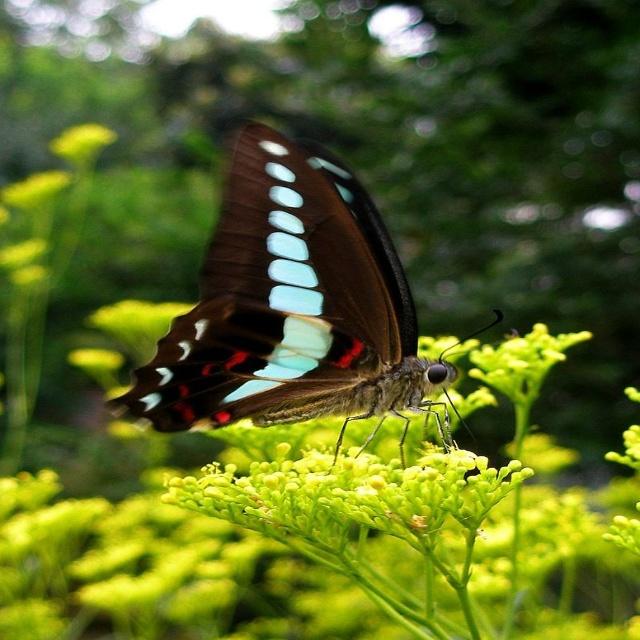Butterfly: (114, 97, 506, 464)
